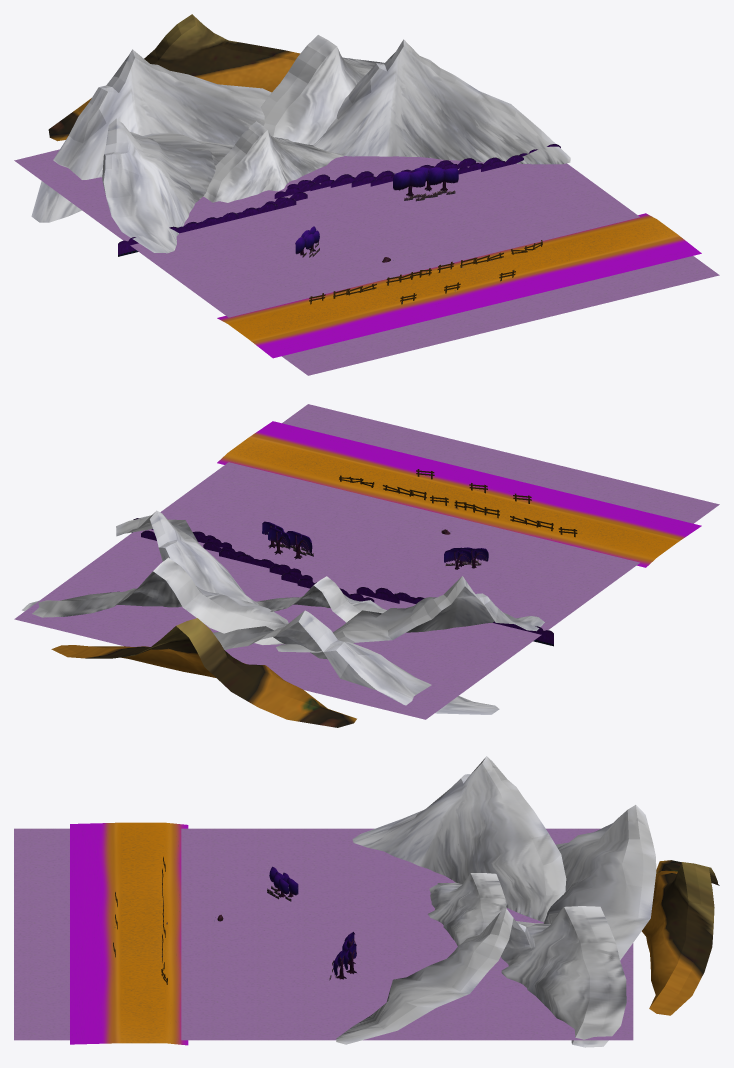
Rendered from 333_bg_roadC.fbx.
3 views of the same model, one above another, from view 1: azimuth 30°, elevation 25°; view 2: azimuth 150°, elevation 25°; view 3: azimuth 270°, elevation 25° (orthographic). The views are drawn at different scales.
Parts seen in each view (by area): view 1: ground, bg_road_model:pPlane459, polySurface1, polySurface17, polySurface18, polySurface19, polySurface20, polySurface16; view 2: ground, bg_road_model:pPlane459, polySurface20, polySurface19, polySurface17, polySurface18, polySurface1, polySurface16; view 3: ground, bg_road_model:pPlane459, polySurface18, polySurface19, polySurface17, polySurface20, polySurface1, polySurface16.
Boxes of the visible parts, box(x1,y1,x2,y2) form: ground: box(14, 149, 719, 375); bg_road_model:pPlane459: box(217, 213, 701, 358); polySurface1: box(313, 39, 570, 164); polySurface17: box(31, 49, 271, 222); polySurface18: box(102, 118, 233, 253); polySurface19: box(260, 35, 384, 144); polySurface20: box(48, 14, 300, 141); polySurface16: box(203, 121, 343, 202); ground: box(14, 404, 719, 719); bg_road_model:pPlane459: box(217, 421, 701, 567); polySurface20: box(51, 618, 356, 727); polySurface19: box(22, 557, 288, 644); polySurface17: box(213, 610, 499, 714); polySurface18: box(276, 576, 544, 652); polySurface1: box(116, 510, 258, 604); polySurface16: box(255, 576, 386, 622); ground: box(14, 828, 633, 1040); bg_road_model:pPlane459: box(70, 822, 188, 1045); polySurface18: box(352, 756, 566, 922); polySurface19: box(501, 906, 626, 1047); polySurface17: box(544, 805, 656, 960); polySurface20: box(642, 860, 719, 1015); polySurface1: box(336, 908, 535, 1044); polySurface16: box(428, 873, 506, 945).
Size of the model in its own units: 5571 by 1254 by 7272.
